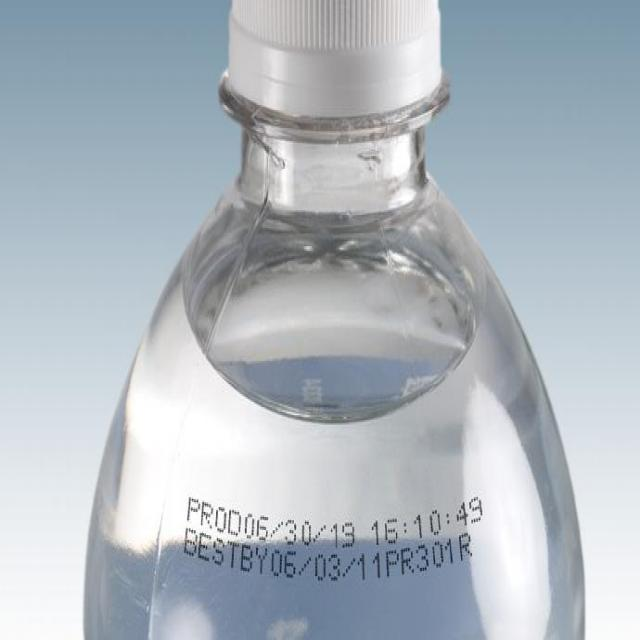plastic_bottle: (79, 1, 614, 640)
